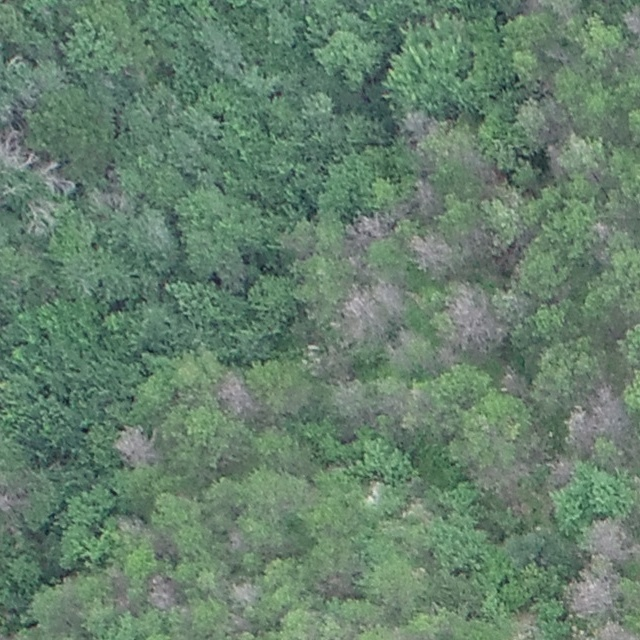unhealthy: (567, 381, 629, 450), (445, 279, 505, 347), (472, 456, 536, 512), (563, 570, 616, 617), (463, 225, 511, 274), (588, 520, 635, 568), (339, 285, 379, 339), (407, 231, 451, 276), (214, 372, 256, 419), (305, 342, 355, 381), (460, 148, 503, 191), (113, 425, 158, 466), (376, 385, 422, 423), (344, 211, 391, 248), (329, 379, 367, 424), (390, 326, 424, 370), (146, 572, 182, 612), (22, 199, 57, 239), (34, 161, 76, 194), (0, 126, 32, 169), (397, 108, 439, 140), (379, 278, 413, 313), (315, 570, 359, 597), (507, 607, 541, 640), (411, 177, 441, 214), (105, 565, 131, 607), (499, 365, 531, 398), (521, 0, 578, 17), (0, 483, 27, 516), (545, 455, 575, 484), (228, 578, 260, 605), (588, 219, 612, 253), (594, 620, 636, 639), (545, 142, 567, 177), (620, 1, 639, 38), (542, 42, 573, 63), (428, 343, 453, 368), (225, 526, 246, 553)
